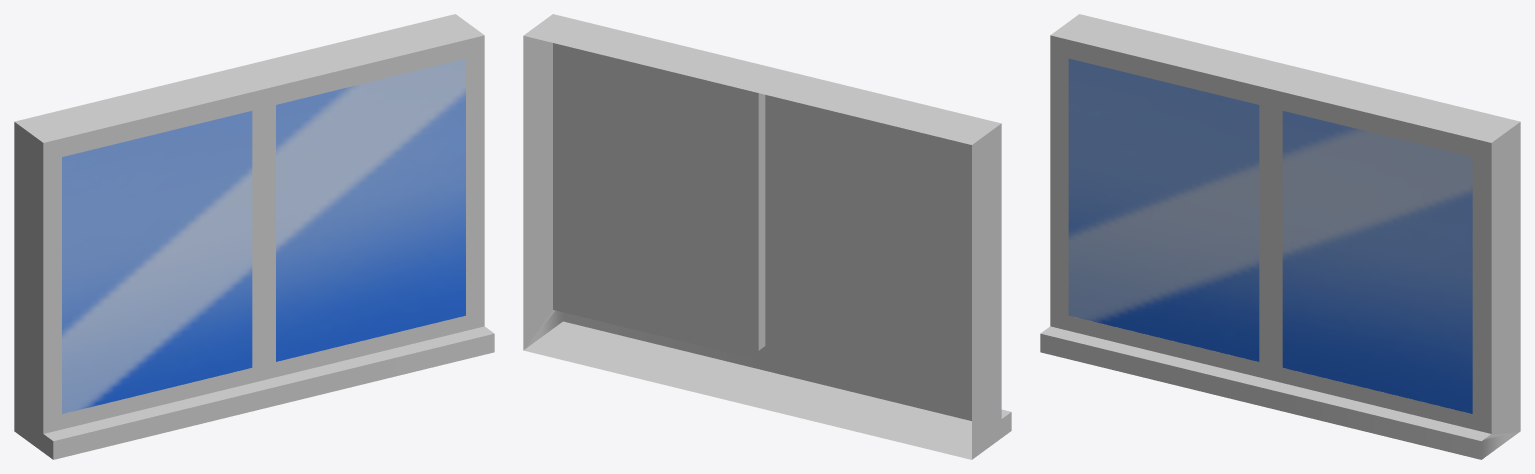
File: window_07.fbx
The picture shows the model from 3 angles, left to right: view 1: azimuth 30°, elevation 25°; view 2: azimuth 150°, elevation 25°; view 3: azimuth 330°, elevation 25°; orthographic projection.
Parts seen in each view (by area): view 1: pPlane9, pPlane5_Ext_2; view 2: pPlane5_Ext_2; view 3: pPlane9, pPlane5_Ext_2.
Boxes of the visible parts, x1,y1,x2,y2 form: pPlane9: (62, 58, 465, 413); pPlane5_Ext_2: (14, 14, 494, 459); pPlane5_Ext_2: (523, 14, 1011, 459); pPlane9: (1068, 58, 1472, 413); pPlane5_Ext_2: (1040, 14, 1520, 459).
Bounding box in the file's own units: 224 × 150 × 34.41.
